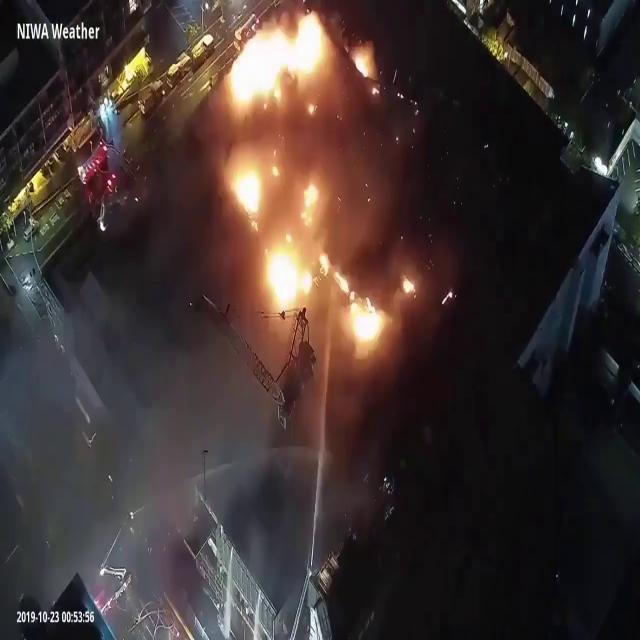Fire: (217, 11, 325, 110), (266, 232, 328, 308), (332, 273, 386, 346), (228, 157, 264, 230), (298, 185, 320, 225), (351, 47, 377, 77), (402, 272, 416, 296), (272, 162, 279, 176)
